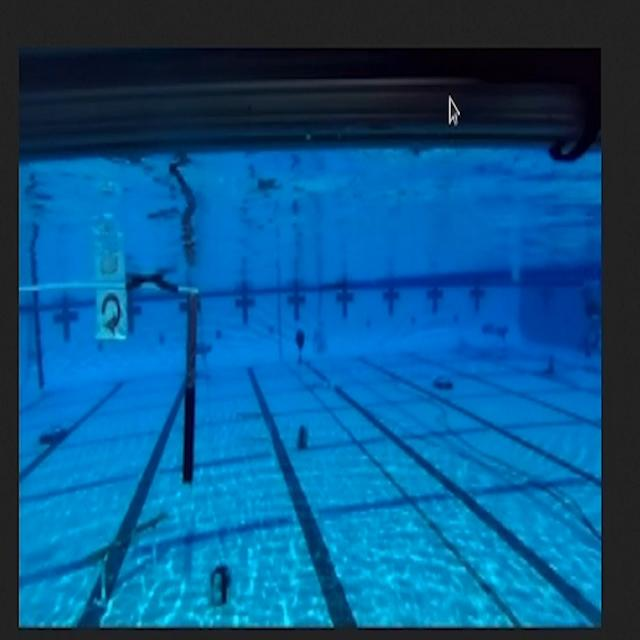Gate: (17, 278, 203, 501)
